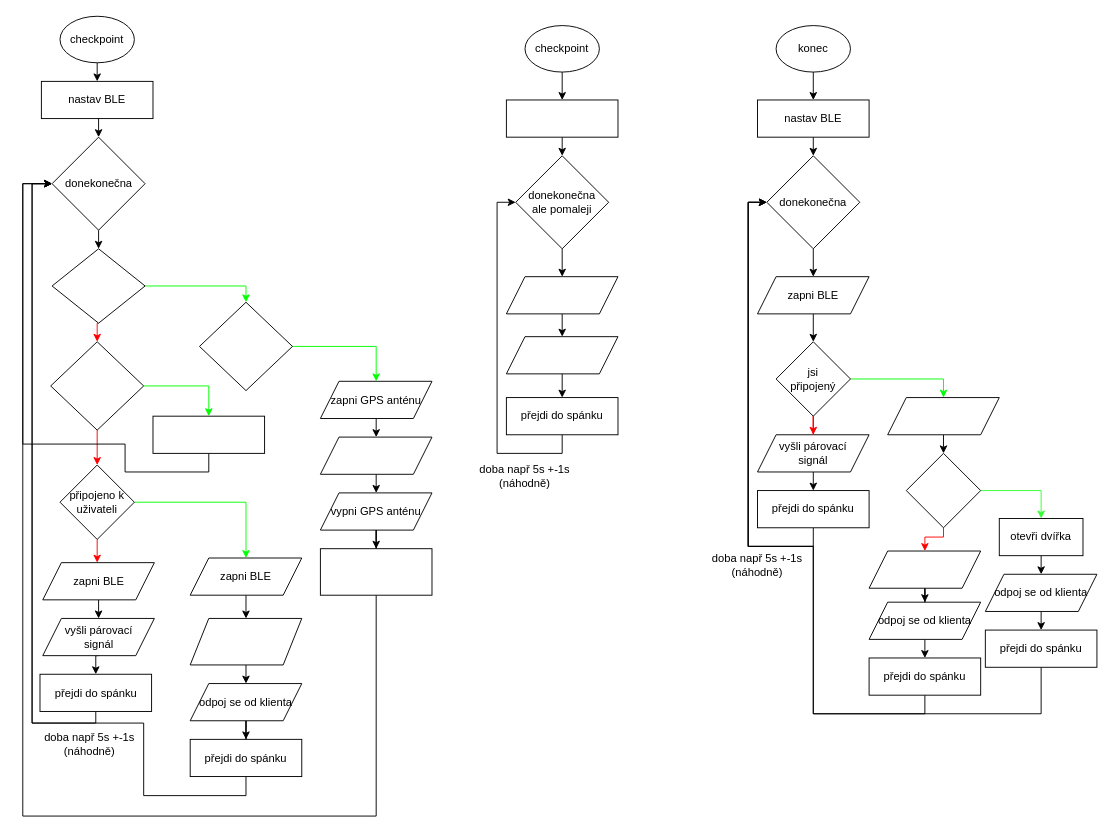
The diagram is 1113 pixels wide and 840 high, and some of its shapes have lost their labels. The box of each missing label's shape, as (x1, y1, x2, y2) in pixels:
data jsou v pořádku: (905, 452, 981, 528)
mód přípravy lovu zapnut: (51, 248, 145, 323)
nastav BLE beacon: (505, 99, 618, 137)
podrženo tlačítko přípravy lovu: (50, 341, 144, 430)
vyzvi klienta k poslání dat: (887, 397, 999, 435)
vyšli svoje ID: (505, 336, 618, 374)
zapiš data bodu do flash uložiště: (319, 548, 432, 595)
zapni BLE beacon: (505, 276, 618, 314)
zapni mód přípravy: (152, 415, 265, 453)
zašli kientovi zprávu o chybě: (868, 550, 981, 588)
zašli kientovi zprávu s info o lovu: (189, 618, 302, 665)
zmáčknuto tlačítko přidání bodu: (199, 301, 292, 391)
získej GPS data: (319, 436, 432, 474)
